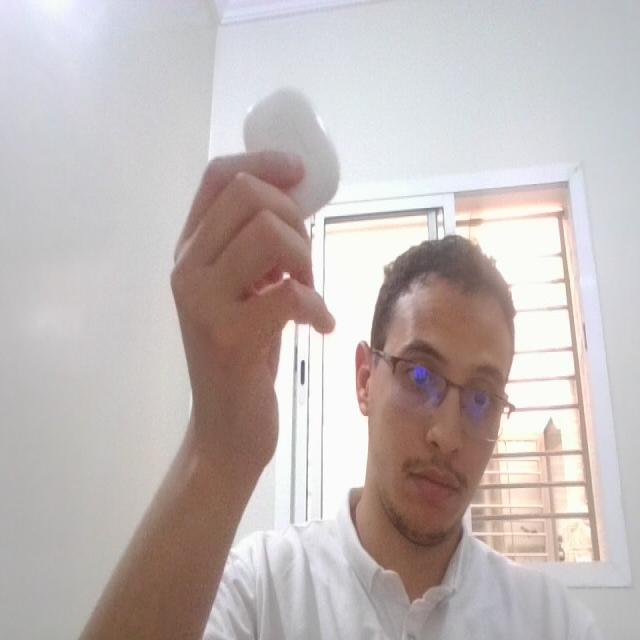airpods: (237, 80, 353, 224)
